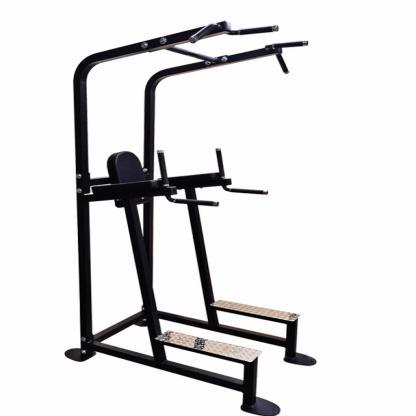chinning dipping: (68, 20, 320, 415)
